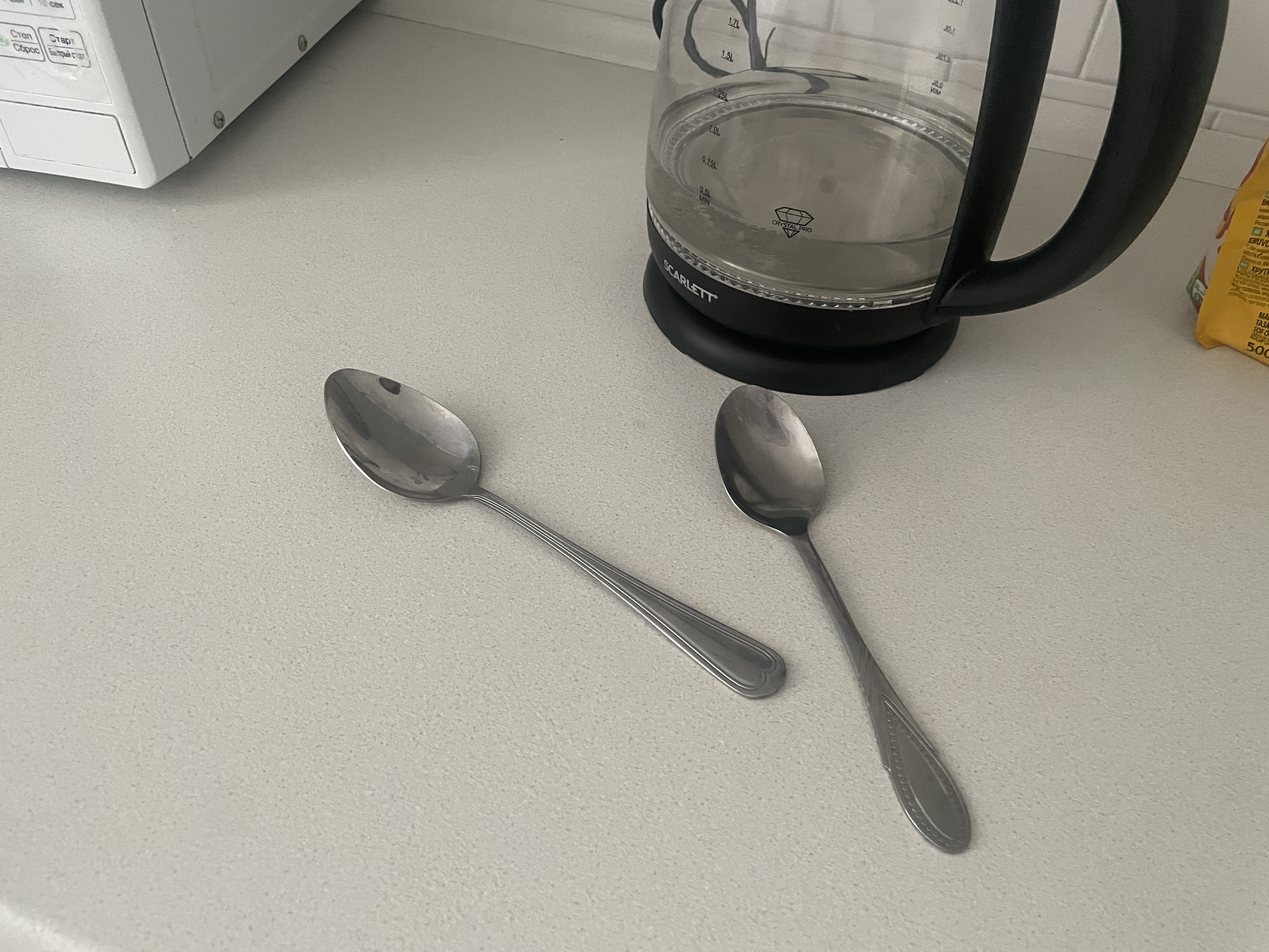spoon: (324, 369, 786, 698), (716, 386, 971, 853)
